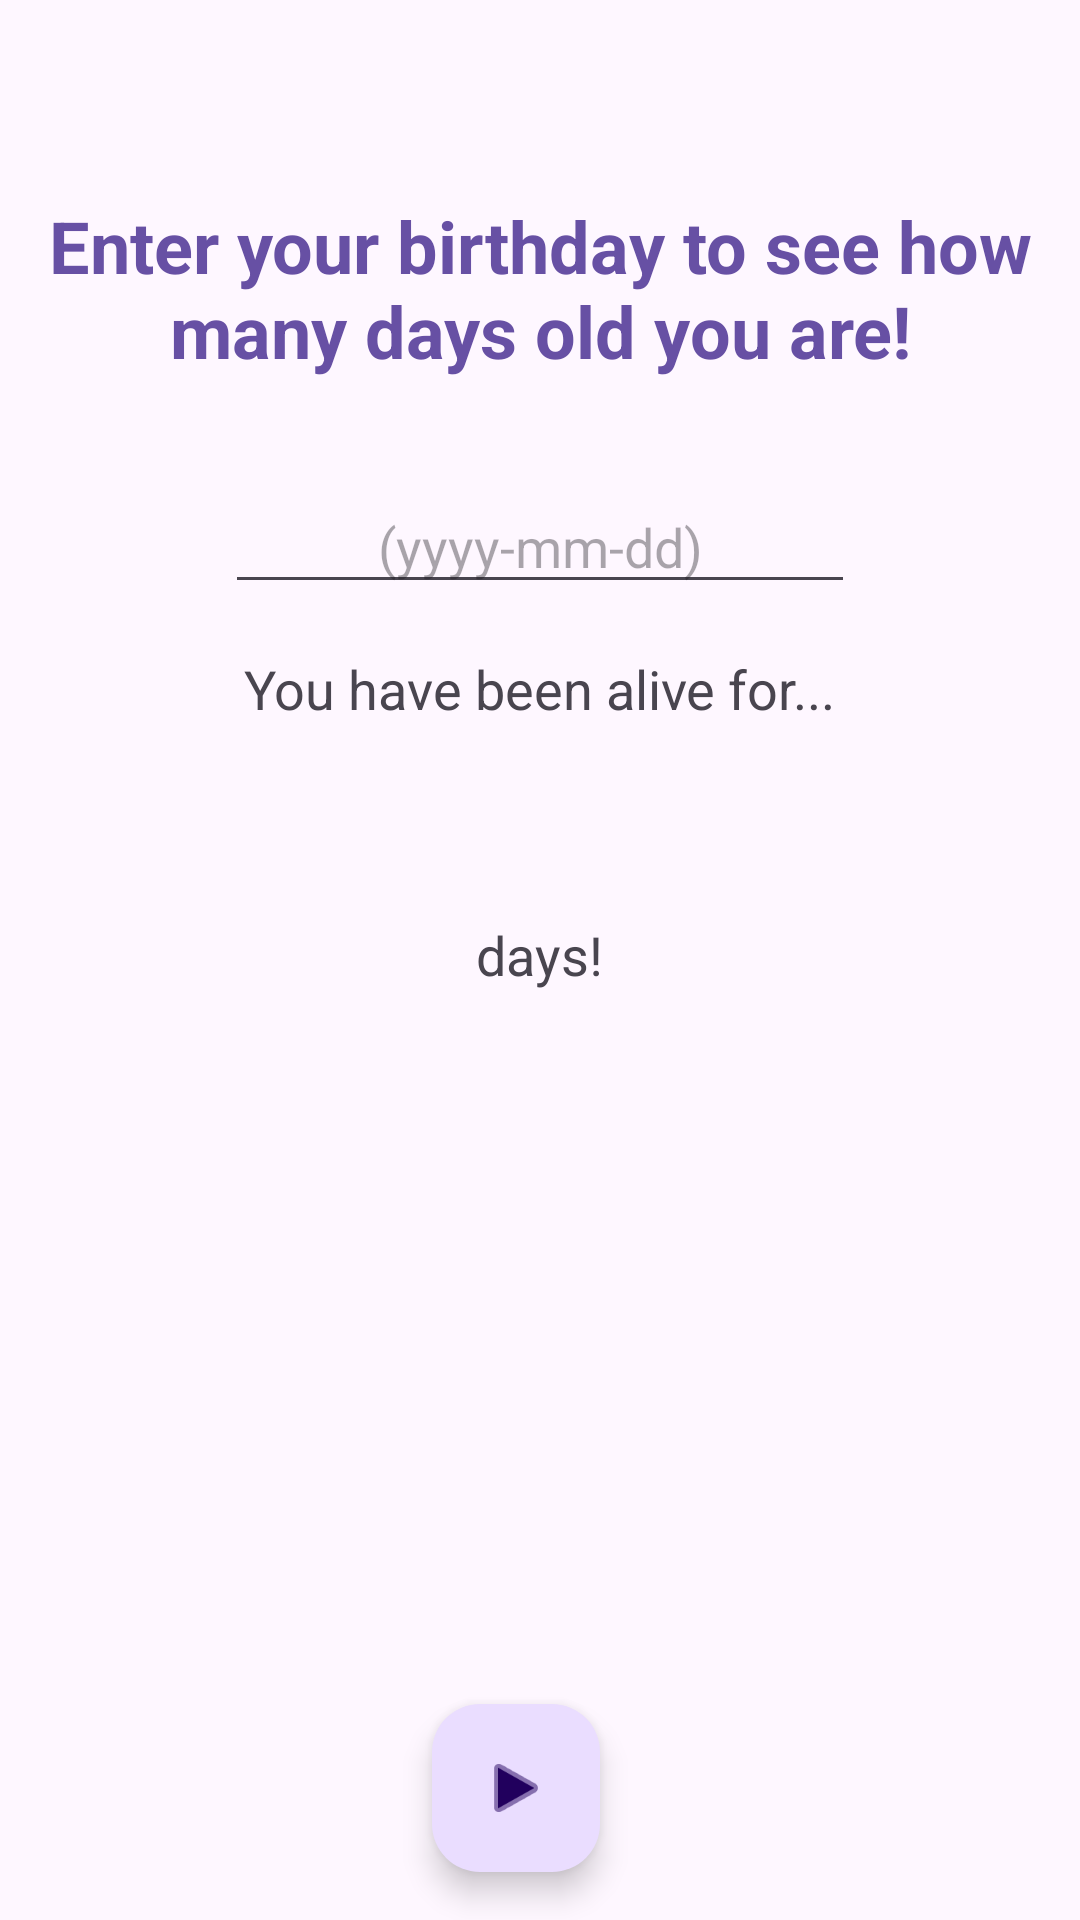

Where icons sit on this 1080 × 1920 app screen, as detection(x1, y1, x2, y2):
play: detection(432, 1704, 600, 1872)
